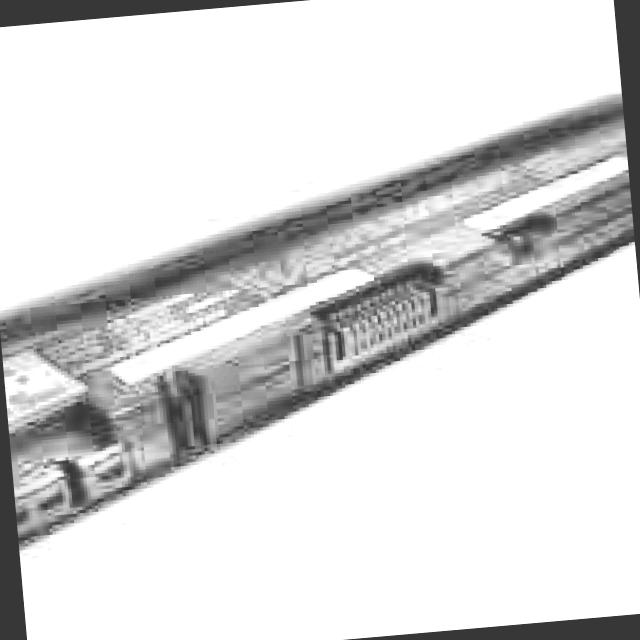Battery: (0, 96, 640, 578)
